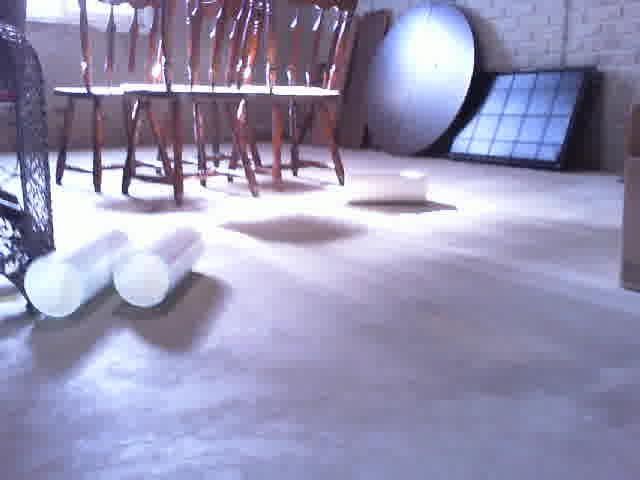coral: (22, 225, 133, 319), (111, 224, 209, 307), (340, 168, 429, 207)
